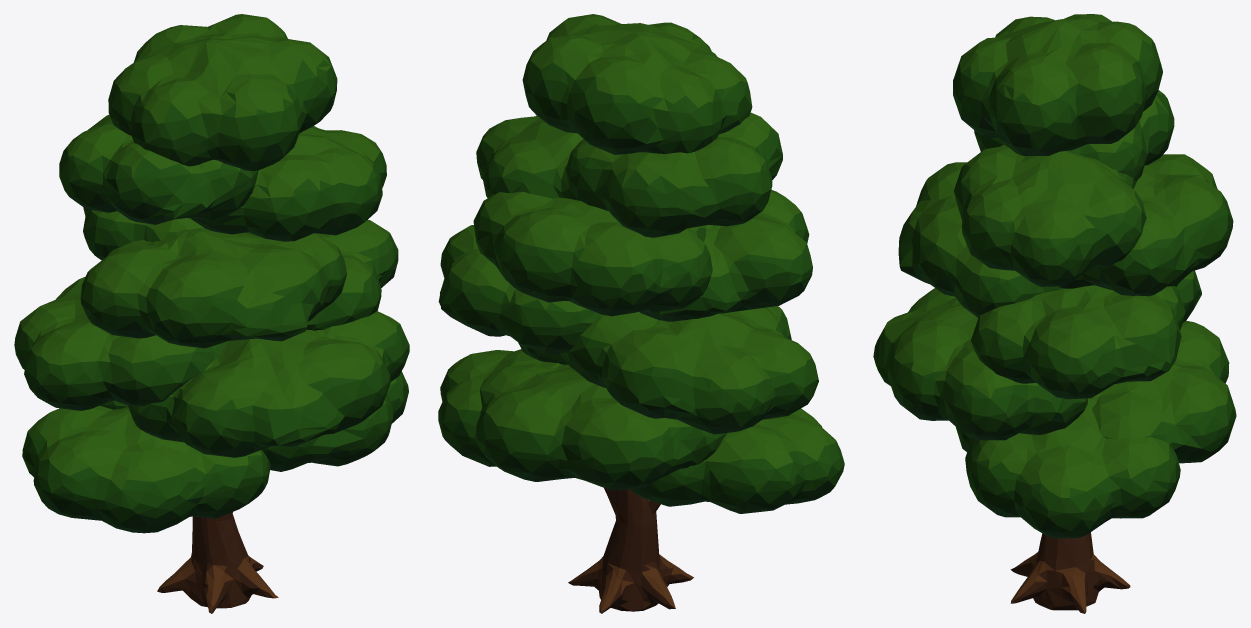
File: Tree_B1.fbx
3 renders of one model, left to right at view 1: azimuth 30°, elevation 25°; view 2: azimuth 150°, elevation 25°; view 3: azimuth 270°, elevation 25°, orthographic. The views are drawn at different scales.
Visible parts, largest first — view 1: Tree_B1_Canopy, Tree_B1_Wood; view 2: Tree_B1_Canopy, Tree_B1_Wood; view 3: Tree_B1_Canopy, Tree_B1_Wood.
Part boxes in pixels (x1,y1,x2,y2): Tree_B1_Canopy: (14,14,409,533); Tree_B1_Wood: (157,512,278,613); Tree_B1_Canopy: (438,14,844,513); Tree_B1_Wood: (568,488,693,613); Tree_B1_Canopy: (873,14,1236,538); Tree_B1_Wood: (1010,532,1130,613).
Bounding box in the file's own units: 492 × 705 × 404.
